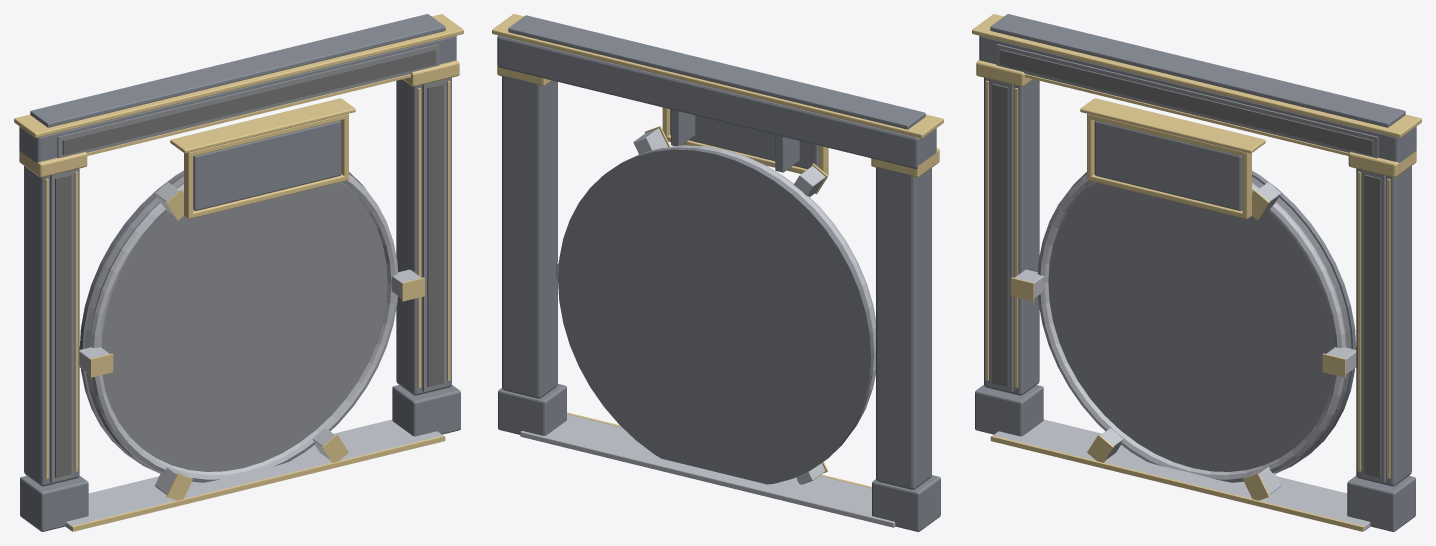
File: prop_vault_frame.glb
3 views of the same model, side by side, from view 1: azimuth 30°, elevation 25°; view 2: azimuth 150°, elevation 25°; view 3: azimuth 330°, elevation 25° (orthographic).
Parts seen in each view (by area): view 1: Frame, LedStrip; view 2: Frame; view 3: Frame, LedStrip.
Part boxes in pixels (x1,y1,x2,y2): Frame: (14,14,463,531); LedStrip: (55,49,443,477); Frame: (492,14,943,531); Frame: (972,14,1421,531); LedStrip: (992,49,1380,477).
Bounding box in the file's own units: 4.95 × 4.5 × 0.85.
